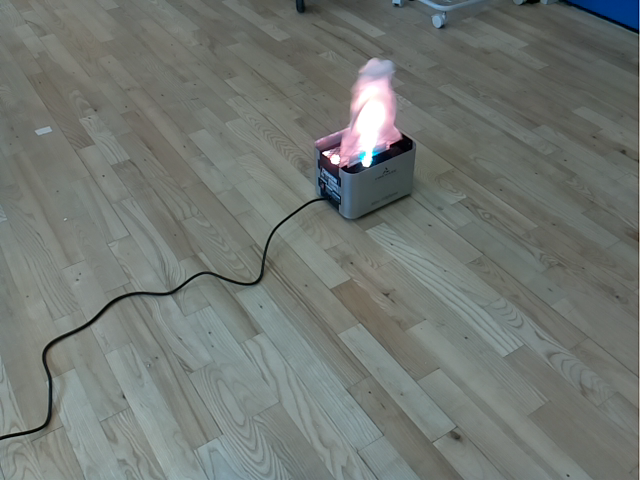fire: (338, 57, 402, 168)
